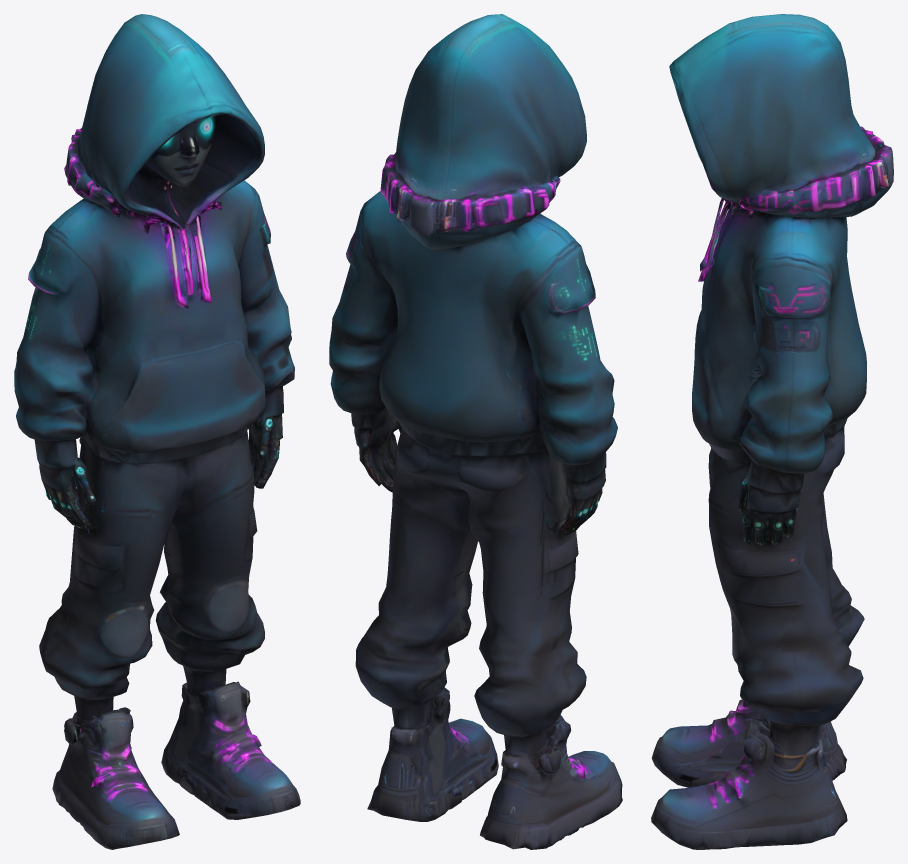
Rendered from mymodel.glb.
3 renders of one model, left to right at view 1: azimuth 30°, elevation 25°; view 2: azimuth 150°, elevation 25°; view 3: azimuth 270°, elevation 25°, orthographic. The views are drawn at different scales.
Size of the model in its own units: 0.7275 by 2 by 0.5602.
Materials: 1 (1 with a texture image).
